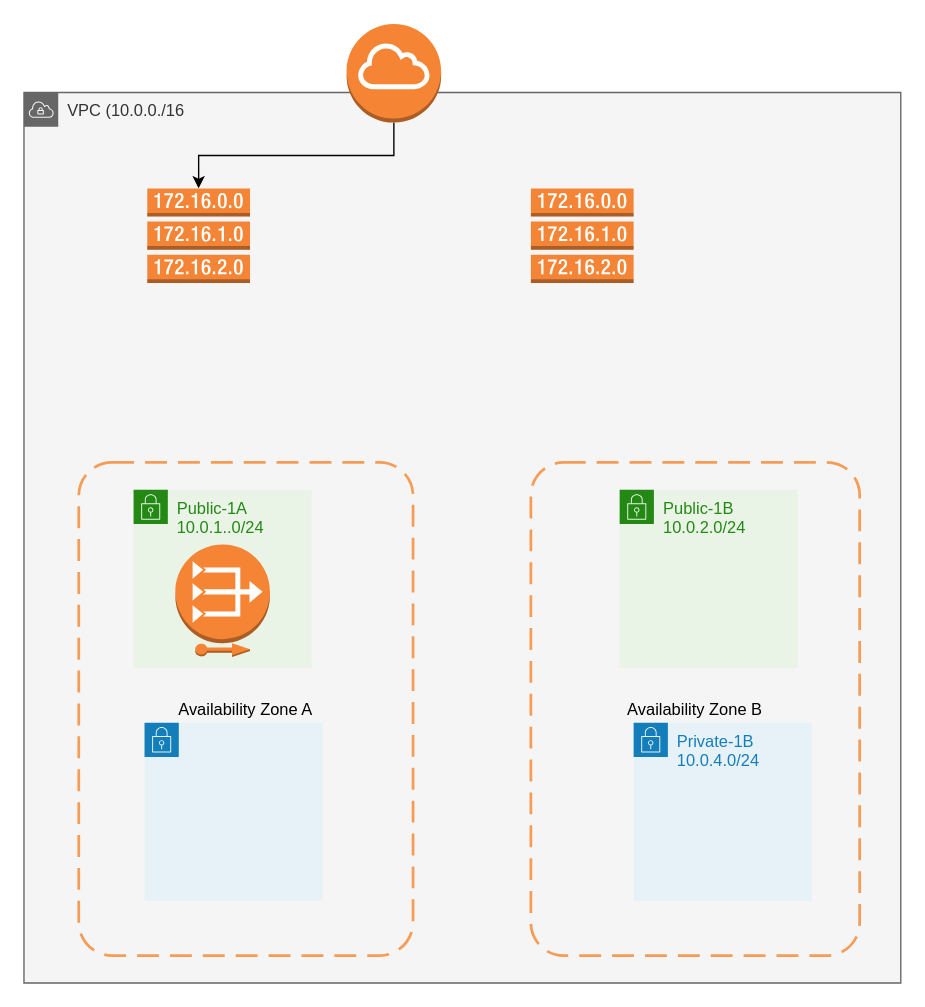
This 925x1007 diagram has some shape labels left out. The centre of each missing label's shape, as x and y in pixels:
Private-1A 10.0.3.0/24: pixel 233 811
PrivateRT: pixel 582 235
PublicRT: pixel 198 235
